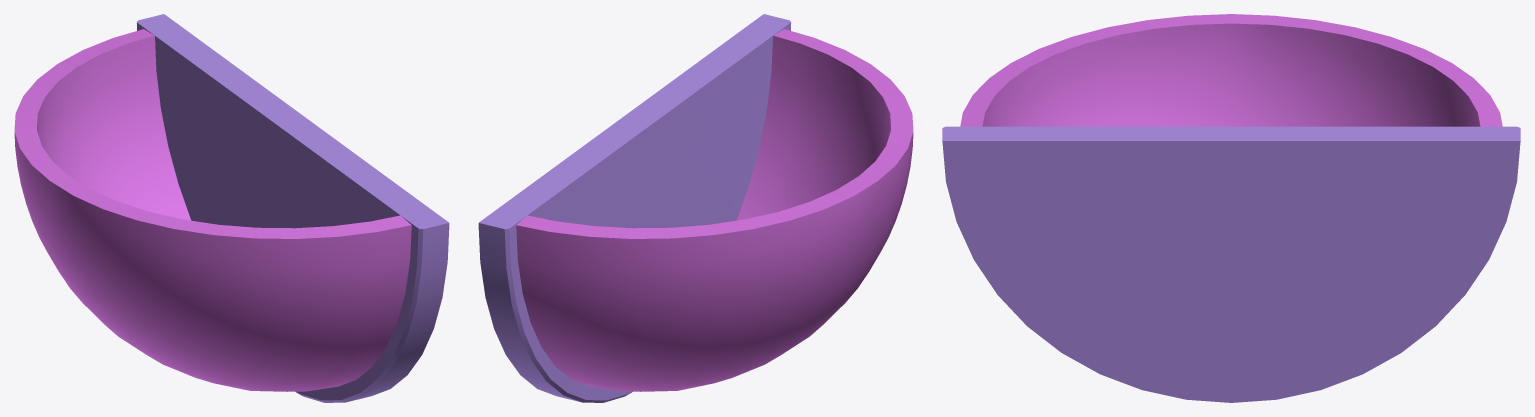
Rendered from wallLamp.fbx.
3 views of the same model, side by side, from view 1: azimuth 30°, elevation 25°; view 2: azimuth 150°, elevation 25°; view 3: azimuth 270°, elevation 25° (orthographic).
Visible parts, largest first — view 1: wallLamp; view 2: wallLamp; view 3: wallLamp.
Part boxes in pixels (x1,y1,x2,y2): wallLamp: (14,14,449,402); wallLamp: (478,14,913,402); wallLamp: (942,14,1520,402).
Size of the model in its own units: 17.68 by 17.02 by 34.03.
